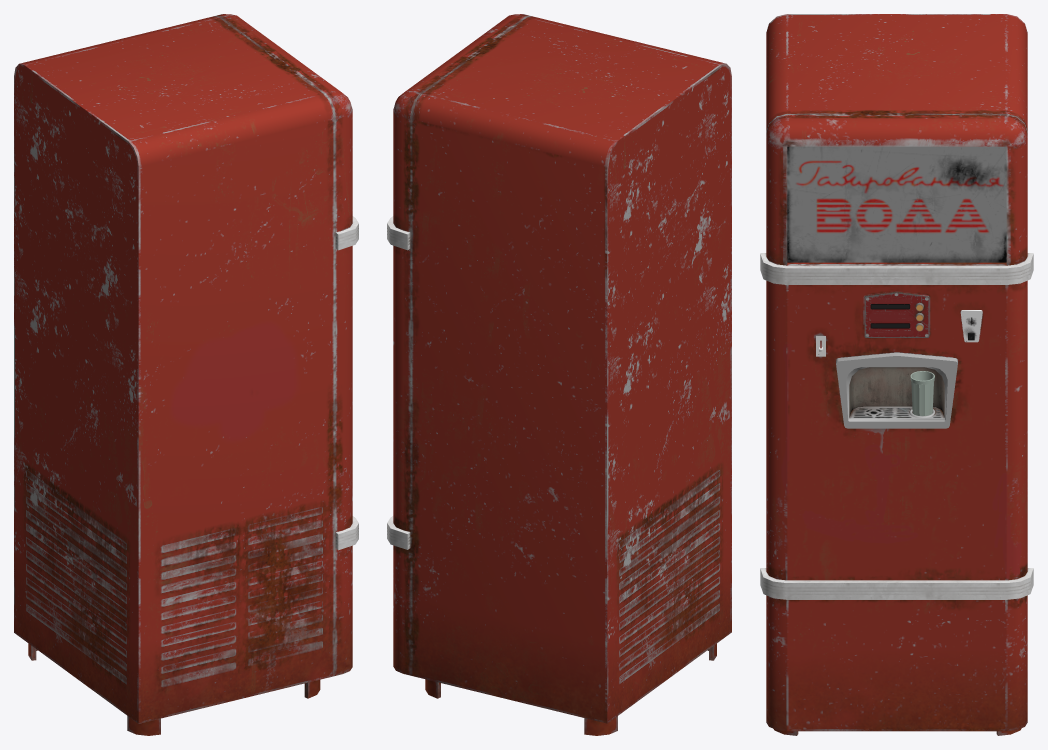
Rendered from vending_soda_machine.fbx.
3 renders of one model, left to right at view 1: azimuth 30°, elevation 25°; view 2: azimuth 150°, elevation 25°; view 3: azimuth 270°, elevation 25°, orthographic. The views are drawn at different scales.
Parts seen in each view (by area): view 1: half-ring_low5; view 2: half-ring_low5; view 3: half-ring_low5.
Part boxes in pixels (x1,y1,x2,y2): half-ring_low5: [14, 14, 358, 735]; half-ring_low5: [387, 14, 731, 735]; half-ring_low5: [760, 14, 1033, 735].
Bounding box in the file's own units: 0.8755 × 2.18 × 0.867.
